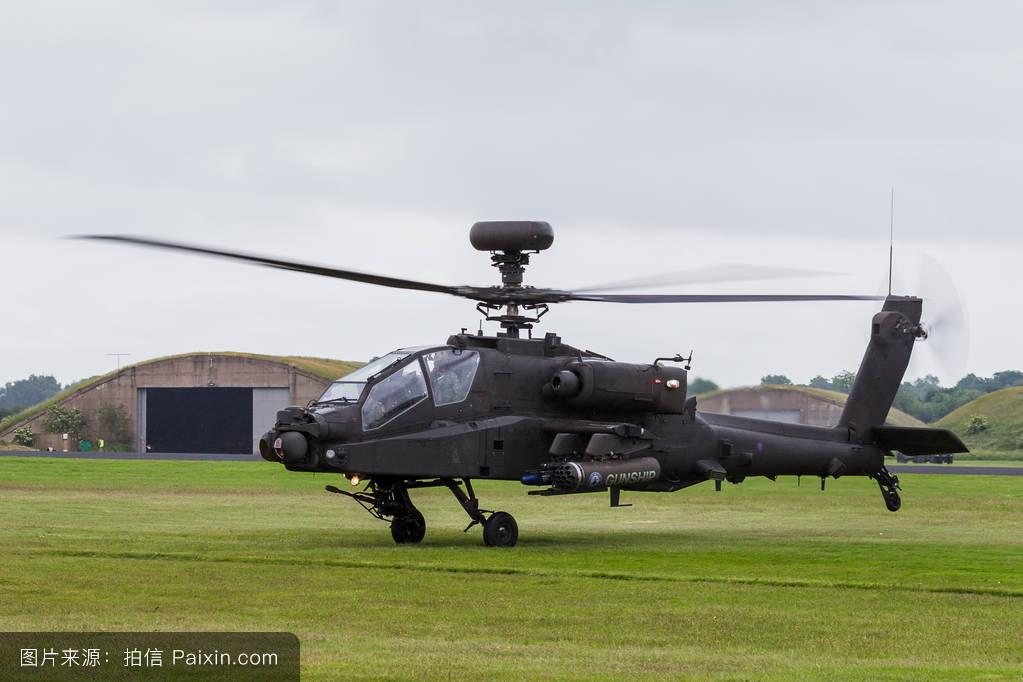airplane: (57, 215, 969, 552)
